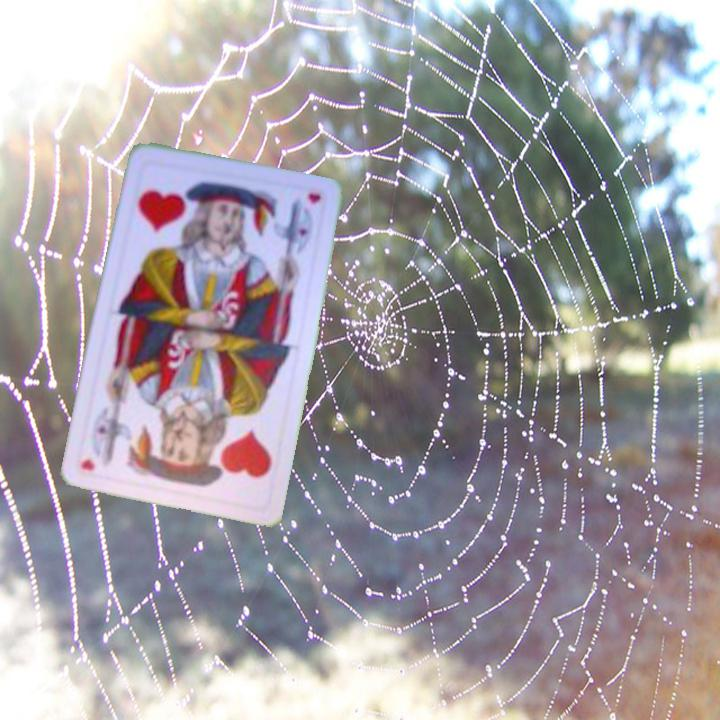h_j.png: (123, 157, 237, 260), (169, 407, 283, 510)
